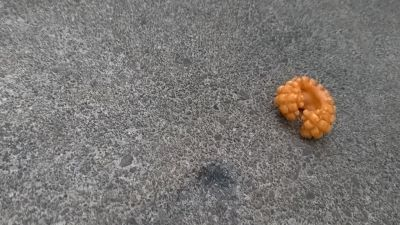eggs: (273, 72, 338, 142)
